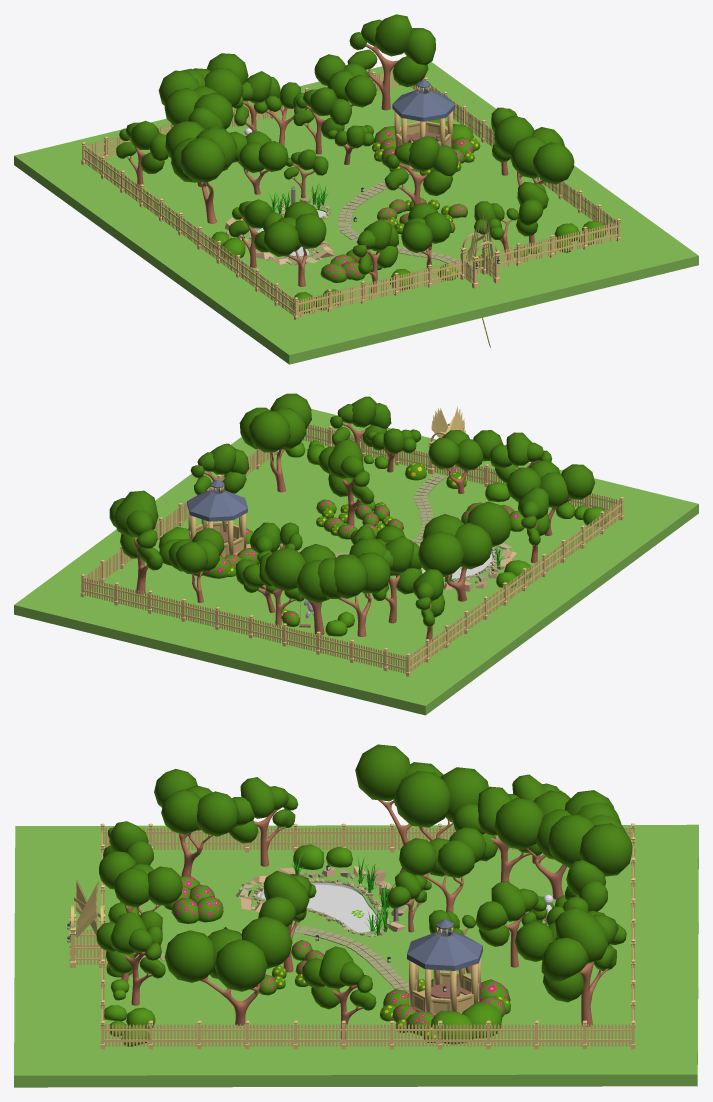
The model's file is Garden1.fbx.
3 renders of one model, top to bottom at view 1: azimuth 30°, elevation 25°; view 2: azimuth 150°, elevation 25°; view 3: azimuth 270°, elevation 25°, orthographic. The views are drawn at different scales.
Parts seen in each view (by area): view 1: Ground, Icosphere.083, Roof, Icosphere.089, Icosphere.077, Leaves1.007, Icosphere.082, Icosphere.017, Icosphere.048, Icosphere.091, Icosphere.079, Icosphere.081 (+21 smaller); view 2: Ground, Leaves1.005, Roof, Leaves1.007, Leaves1, Icosphere.083, Icosphere.085, Icosphere.015, Icosphere.077, Icosphere.048, Icosphere.082, Icosphere.018 (+20 smaller); view 3: Ground, Icosphere.084, Roof, Icosphere.083, Icosphere.090, Leaves1, Water, Icosphere.089, Leaves1.003, Icosphere.077, Leaves1.007, Icosphere.017 (+39 smaller).
Part boxes in pixels (left/top/right/bottom): Ground: left=14, top=62, right=698, bottom=364; Icosphere.083: left=180, top=138, right=225, bottom=182; Roof: left=392, top=88, right=454, bottom=121; Icosphere.089: left=533, top=142, right=574, bottom=184; Icosphere.077: left=374, top=14, right=412, bottom=56; Leaves1.007: left=494, top=115, right=533, bottom=156; Icosphere.082: left=263, top=221, right=298, bottom=256; Icosphere.017: left=204, top=68, right=243, bottom=106; Icosphere.048: left=164, top=88, right=201, bottom=125; Icosphere.091: left=511, top=136, right=546, bottom=178; Icosphere.079: left=404, top=28, right=435, bottom=65; Icosphere.081: left=295, top=213, right=326, bottom=248; Ground: left=14, top=409, right=698, bottom=715; Leaves1.005: left=418, top=531, right=463, bottom=576; Roof: left=187, top=488, right=247, bottom=521; Leaves1.007: left=249, top=411, right=290, bottom=452; Leaves1: left=264, top=547, right=305, bottom=591; Icosphere.083: left=466, top=501, right=512, bottom=547; Icosphere.085: left=455, top=522, right=492, bottom=569; Icosphere.015: left=333, top=555, right=367, bottom=598; Icosphere.077: left=113, top=490, right=158, bottom=536; Icosphere.048: left=357, top=552, right=391, bottom=593; Icosphere.082: left=561, top=464, right=594, bottom=499; Icosphere.018: left=296, top=559, right=328, bottom=603; Ground: left=14, top=824, right=698, bottom=1087; Icosphere.084: left=394, top=770, right=450, bottom=827; Roof: left=407, top=930, right=482, bottom=970; Icosphere.083: left=355, top=744, right=410, bottom=801; Icosphere.090: left=214, top=939, right=267, bottom=991; Leaves1: left=579, top=823, right=632, bottom=876; Water: left=257, top=884, right=378, bottom=932; Icosphere.089: left=164, top=930, right=213, bottom=982; Leaves1.003: left=494, top=797, right=543, bottom=849; Icosphere.077: left=555, top=907, right=608, bottom=963; Leaves1.007: left=241, top=916, right=292, bottom=968; Icosphere.017: left=548, top=814, right=594, bottom=867.
Bounding box in the file's own units: 4374 × 1619 × 5046.
